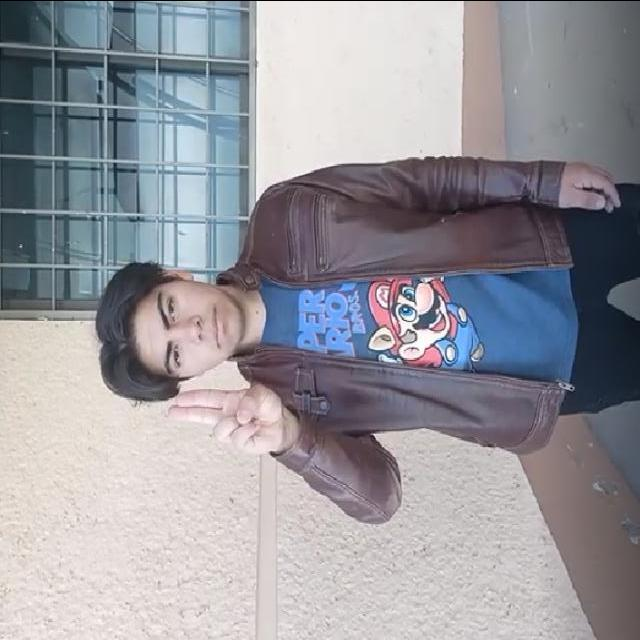U: (158, 364, 302, 468)
